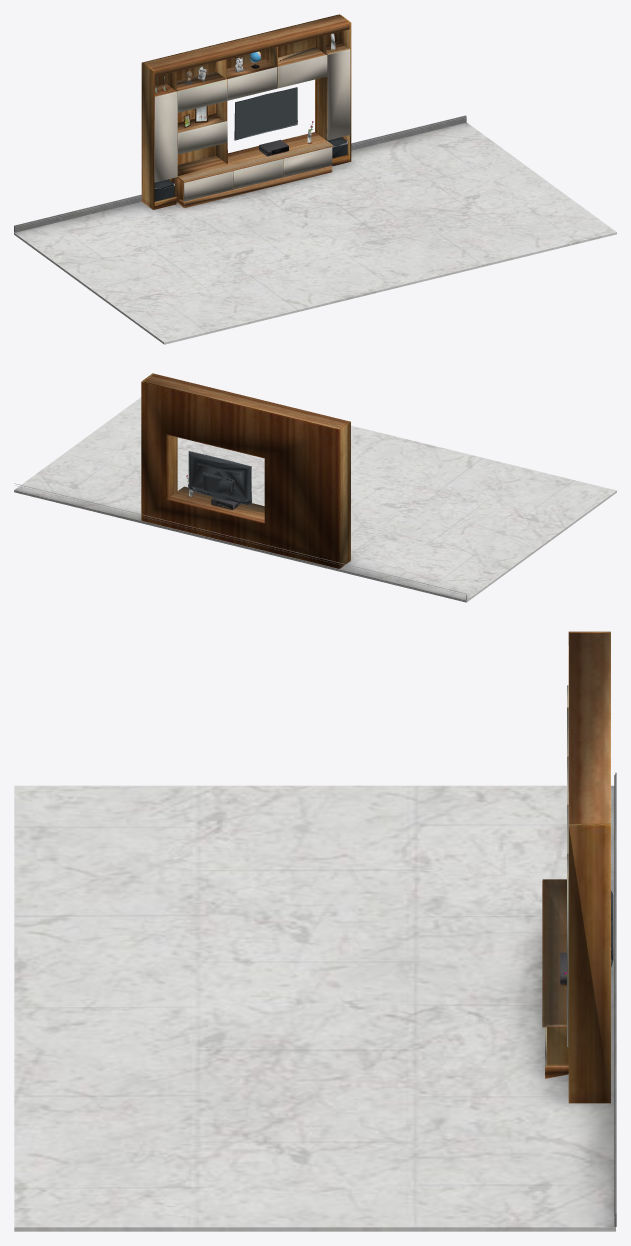
File: tv_cabinet (2).glb
The picture shows the model from 3 angles, top to bottom: view 1: azimuth 30°, elevation 25°; view 2: azimuth 150°, elevation 25°; view 3: azimuth 270°, elevation 25°; orthographic projection. The views are drawn at different scales.
Visible parts, largest first — view 1: Object_9, Object_18, Object_171, Object_120, Object_96; view 2: Object_9, Object_18, Object_171, Object_204; view 3: Object_9, Object_18.
Boxes of the visible parts, box(x1,y1,x2,y2) form: Object_9: box(14, 115, 616, 344); Object_18: box(141, 14, 351, 209); Object_171: box(234, 87, 297, 140); Object_120: box(154, 105, 347, 201); Object_96: box(155, 33, 335, 142); Object_9: box(14, 397, 616, 602); Object_18: box(141, 373, 350, 568); Object_171: box(188, 451, 251, 503); Object_204: box(188, 472, 251, 504); Object_9: box(14, 772, 616, 1231); Object_18: box(542, 631, 610, 1103).
Bounding box in the file's own units: 81.86 × 24.42 × 47.2.
8 materials, 8 textured.
